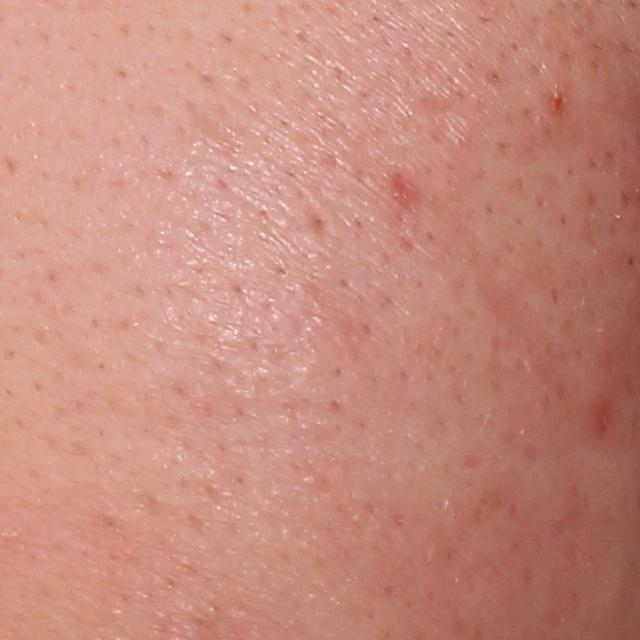atrophic_scar: (471, 263, 593, 419), (408, 90, 485, 172)
